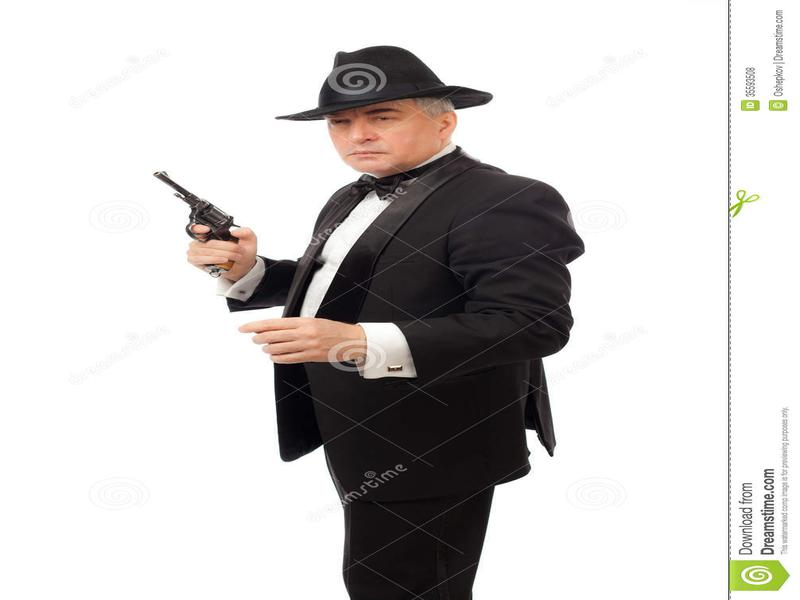Revolver: (149, 156, 237, 251)
